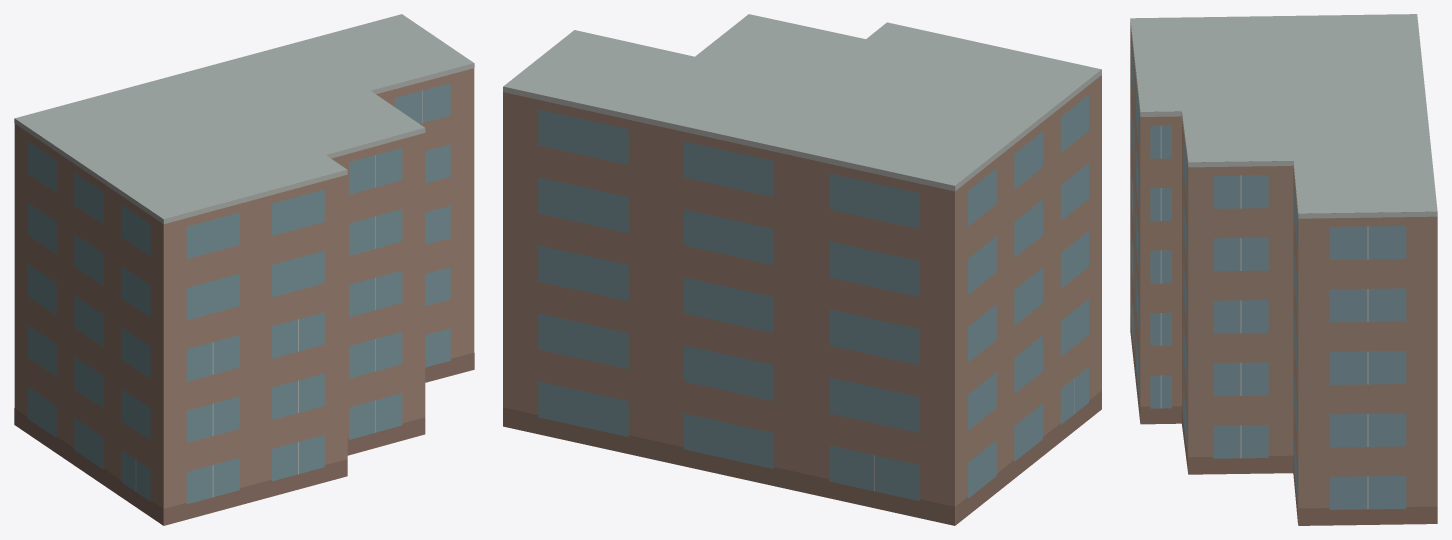
File: survey-upis-32556766.glb
3 views of the same model, side by side, from view 1: azimuth 30°, elevation 25°; view 2: azimuth 150°, elevation 25°; view 3: azimuth 270°, elevation 25° (orthographic). The views are drawn at different scales.
Visible parts, largest first — view 1: survey-upis-32556766.tmp; view 2: survey-upis-32556766.tmp; view 3: survey-upis-32556766.tmp.
Part boxes in pixels (x1,y1,x2,y2): survey-upis-32556766.tmp: [14, 14, 474, 525]; survey-upis-32556766.tmp: [503, 14, 1101, 525]; survey-upis-32556766.tmp: [1130, 14, 1437, 525].
Bounding box in the file's own units: 20.57 × 15 × 13.39.
